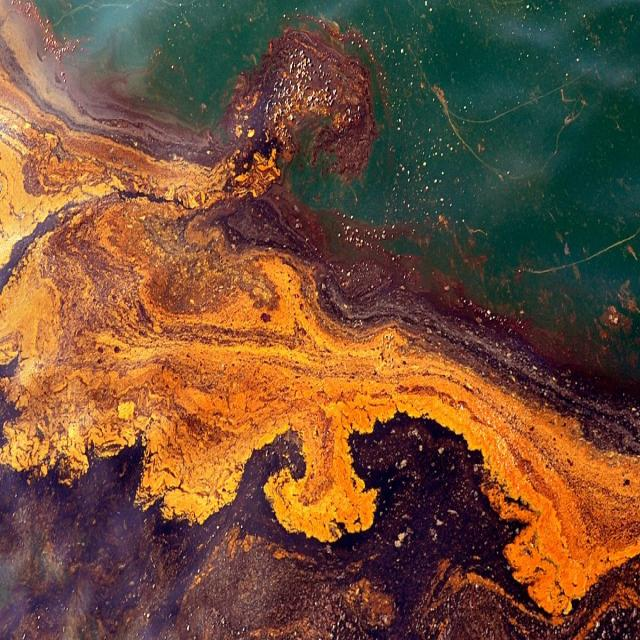sheen: (6, 36, 640, 640)
